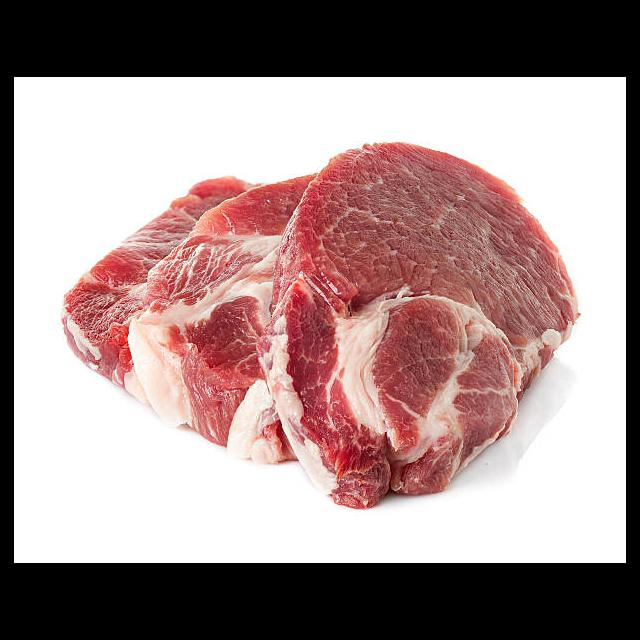beef: (59, 140, 583, 510)
